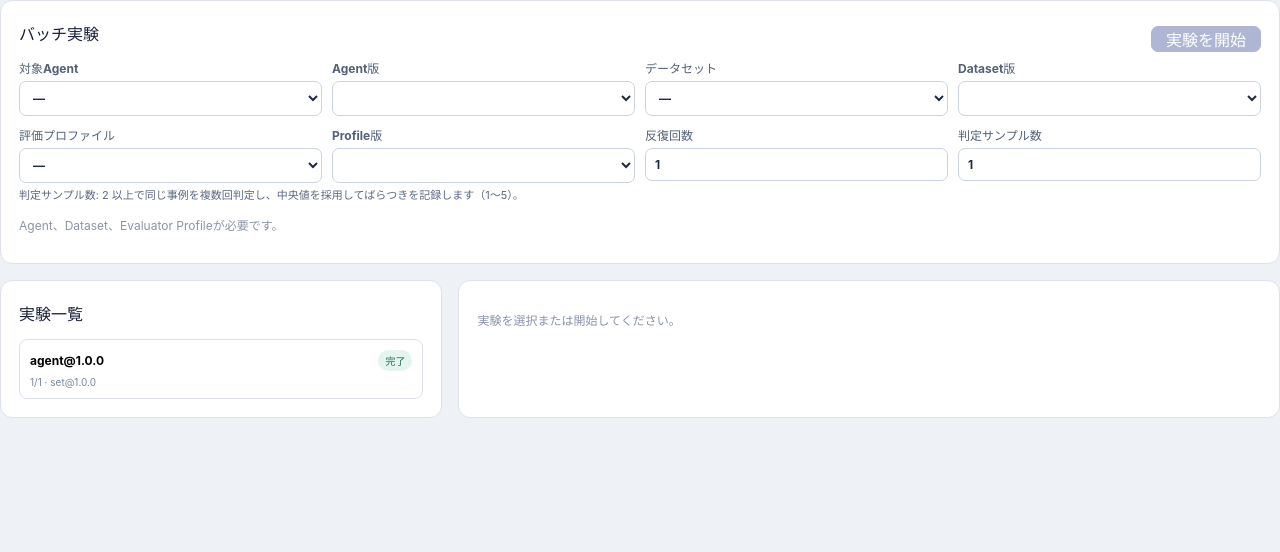
ExperimentsTab の実行/実験の状態語 › 正常: 日本語表示では実験一覧・詳細・ケース結果の状態語が日本語になり、英語の値のままは出ない
This screenshot has width=1280, height=552.
expect the text "完了" is shown: met, box x1=378 y1=350 x2=412 y2=370
Click the button "agent@1.0.0 完了 1/1 · set@1.0.0" at (47, 360), box x1=19 y1=338 x2=423 y2=398
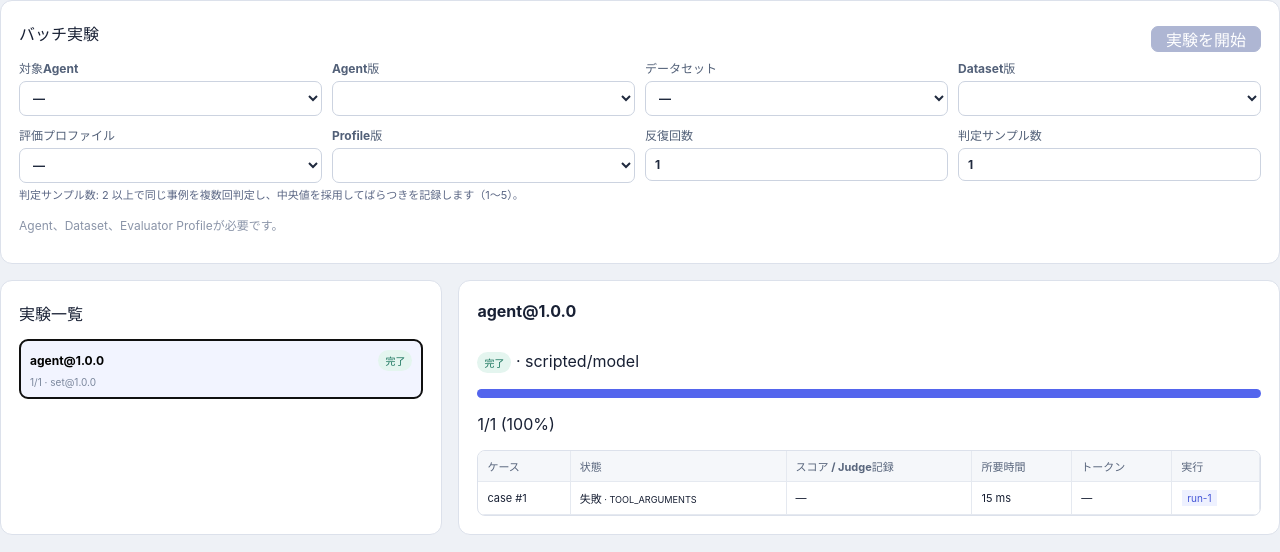
expect the 1st text "完了" is shown: met, box x1=378 y1=350 x2=412 y2=370
expect the text "失敗" is shown: met, box x1=580 y1=492 x2=602 y2=506
